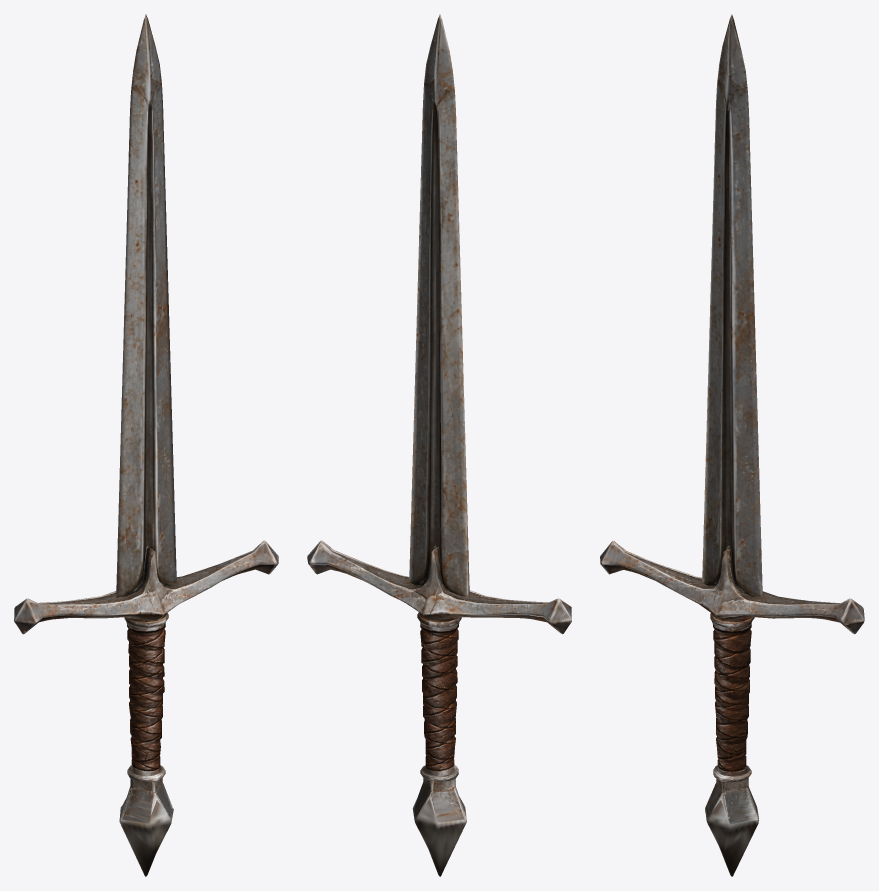
Rendered from SM_H1Sword.fbx.
3 views of the same model, side by side, from view 1: azimuth 30°, elevation 25°; view 2: azimuth 150°, elevation 25°; view 3: azimuth 330°, elevation 25° (orthographic).
Parts seen in each view (by area): view 1: SM_H1Sword; view 2: SM_H1Sword; view 3: SM_H1Sword.
Part boxes in pixels (left/top/right/bottom): SM_H1Sword: left=14, top=14, right=278, bottom=876; SM_H1Sword: left=307, top=14, right=571, bottom=876; SM_H1Sword: left=600, top=14, right=864, bottom=876.
Bounding box in the file's own units: 21.71 × 67.94 × 4.83.
